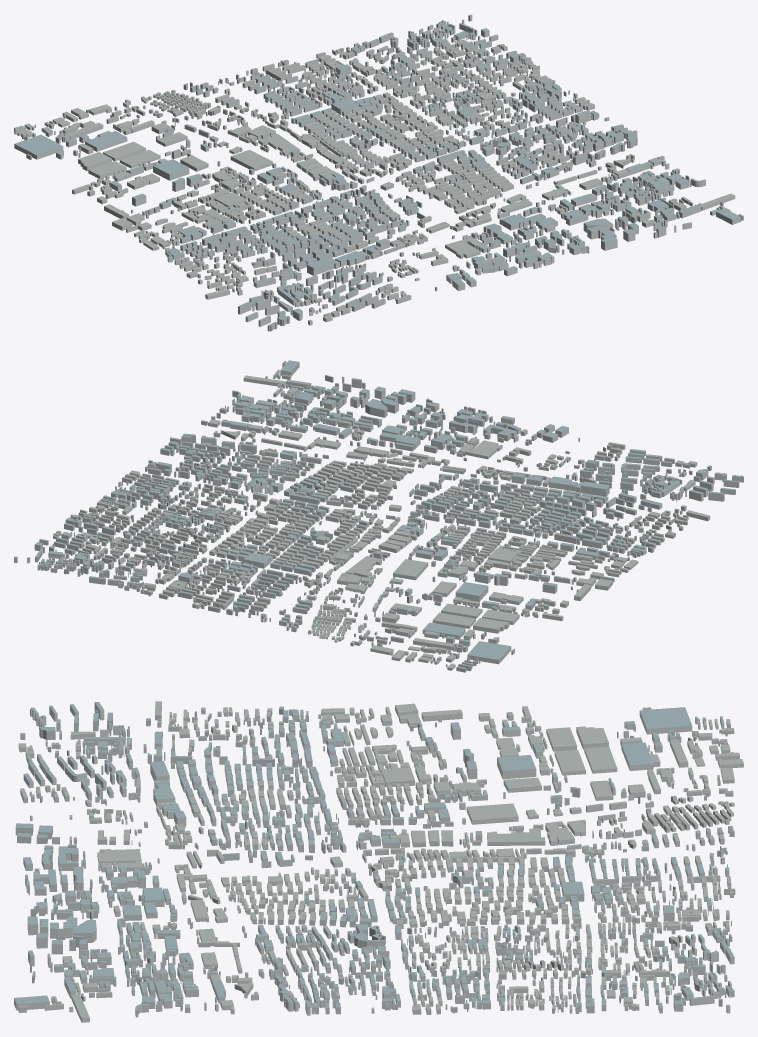
3 renders of one model, top to bottom at view 1: azimuth 30°, elevation 25°; view 2: azimuth 150°, elevation 25°; view 3: azimuth 270°, elevation 25°, orthographic. The views are drawn at different scales.
Visible parts, largest first — view 1: 上海全域建筑分块 · mapped building neighborhood; view 2: 上海全域建筑分块 · mapped building neighborhood; view 3: 上海全域建筑分块 · mapped building neighborhood.
Part boxes in pixels (<box>): 上海全域建筑分块 · mapped building neighborhood: <box>14,14,743,331</box>; 上海全域建筑分块 · mapped building neighborhood: <box>14,360,743,672</box>; 上海全域建筑分块 · mapped building neighborhood: <box>14,701,743,1022</box>.
Size of the model in its own units: 2205 by 38.39 by 2150.
